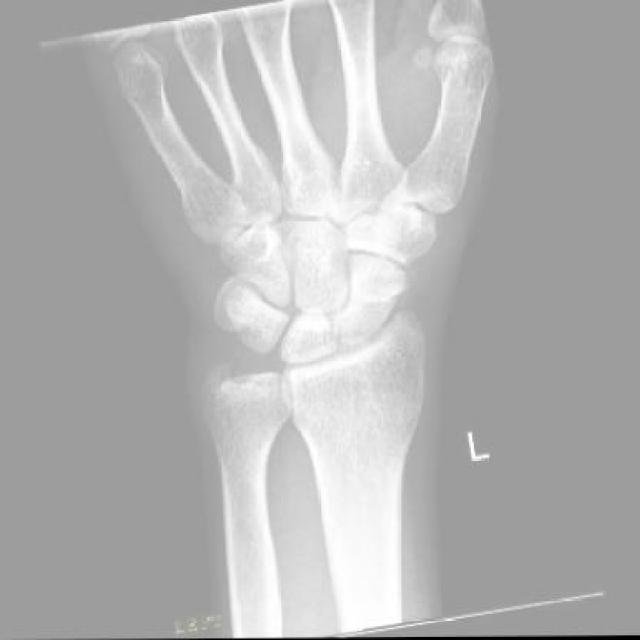Fracture: (334, 265, 411, 318)
